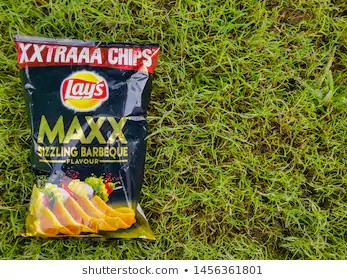lays-large: (20, 38, 159, 241)
